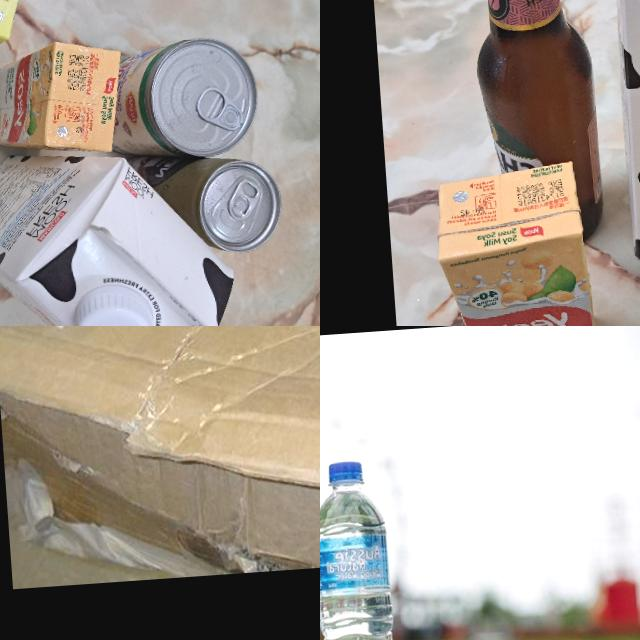aba de lata: (193, 81, 246, 136), (223, 177, 262, 220)
caixinha: (0, 137, 241, 326), (432, 157, 607, 326), (0, 37, 123, 157)
garrafa de vidro: (464, 0, 604, 251)
garrafa plástica: (320, 478, 397, 640)
lata: (104, 34, 259, 160), (140, 152, 280, 255)
papelão: (0, 326, 320, 588)
tampa plástica: (69, 275, 163, 326), (326, 460, 364, 486)
